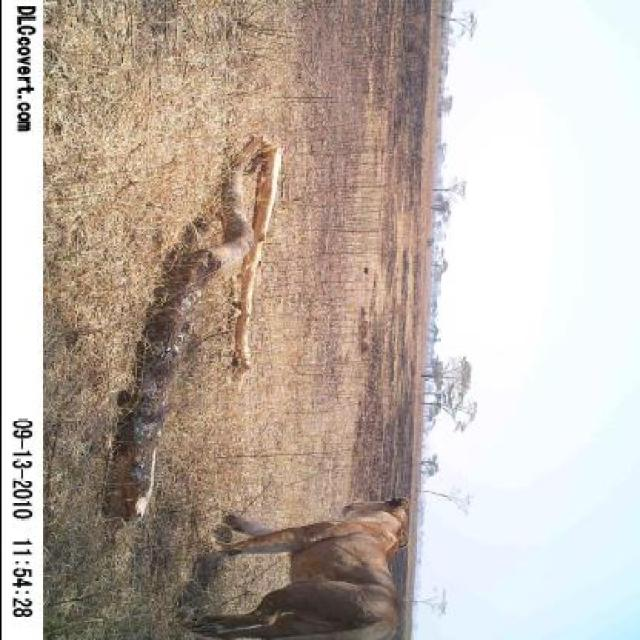Lion: (190, 486, 432, 639)
